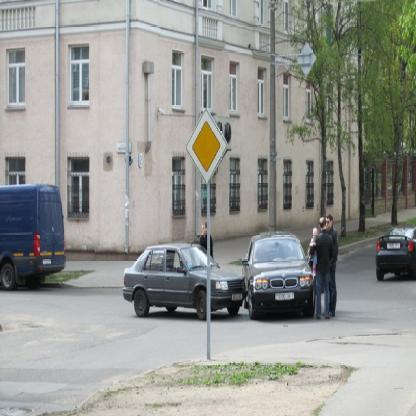road_sign: (187, 110, 227, 182)
